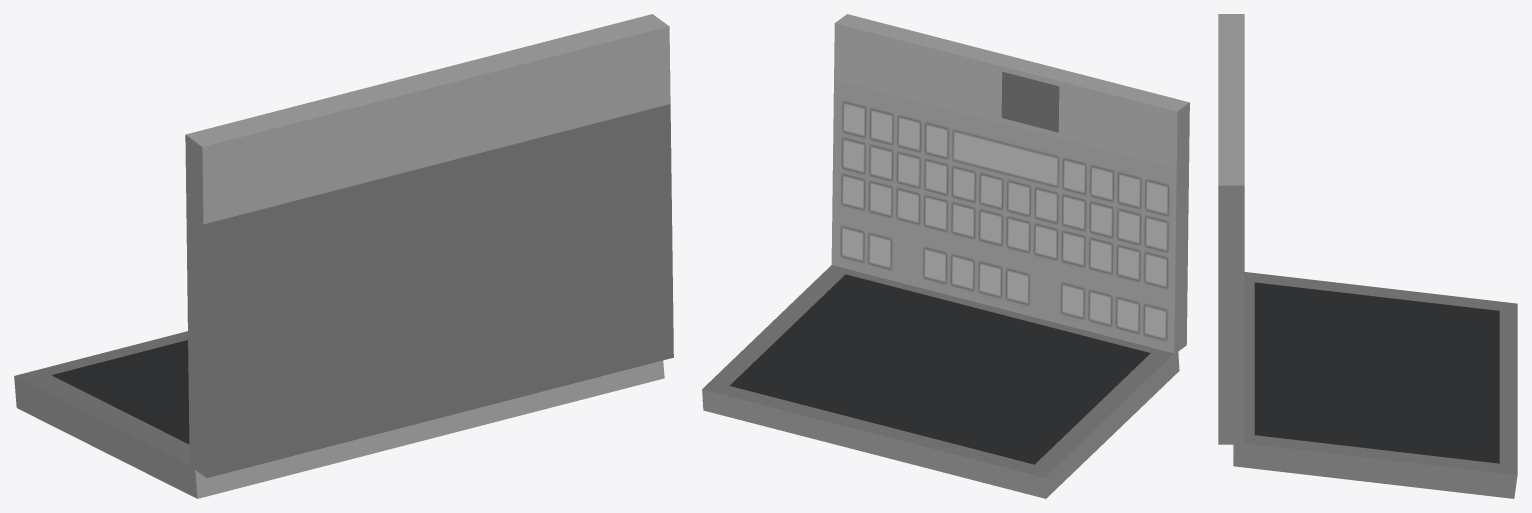
File: Laptop.glb
The picture shows the model from 3 angles, left to right: view 1: azimuth 30°, elevation 25°; view 2: azimuth 150°, elevation 25°; view 3: azimuth 270°, elevation 25°; orthographic projection. The views are drawn at different scales.
Parts seen in each view (by area): view 1: SO_Laptop; view 2: SO_Laptop; view 3: SO_Laptop.
Boxes of the visible parts, bbox=[...] form: SO_Laptop: bbox=[14, 14, 673, 498]; SO_Laptop: bbox=[702, 14, 1189, 498]; SO_Laptop: bbox=[1218, 14, 1517, 498].
Bounding box in the file's own units: 0.9121 × 0.754 × 0.6458.
1 material, 1 textured.
